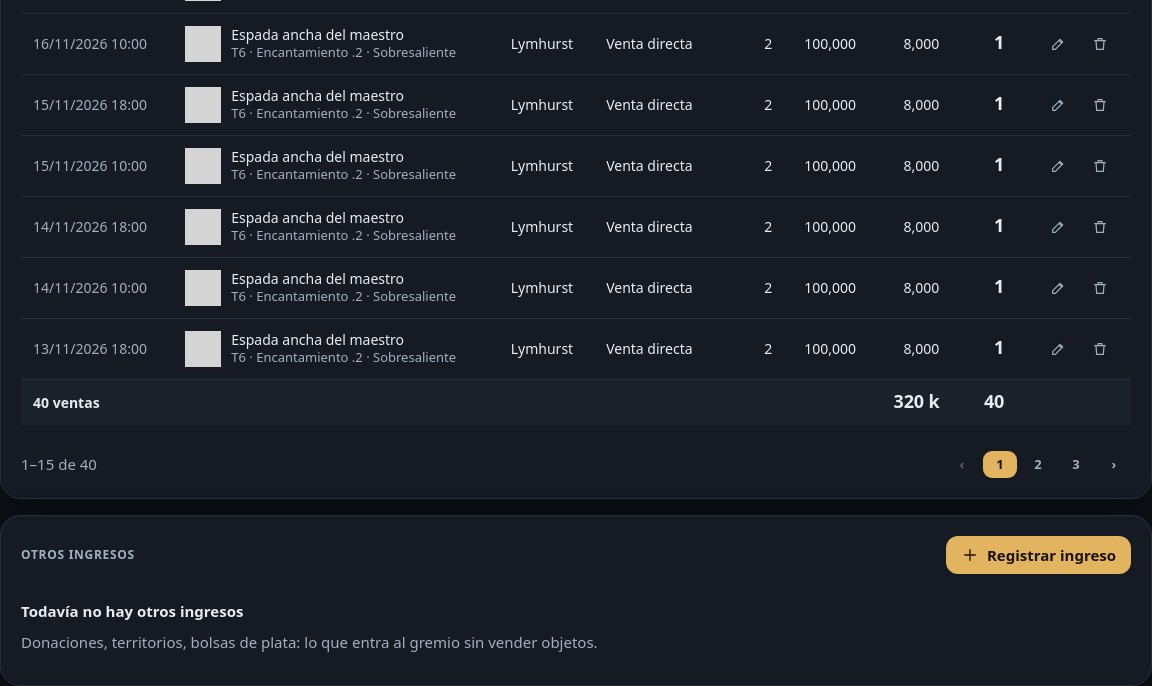
Test: paginación › muestra 15 por página y los totales cubren todas
(page scrolled)
Expected: the text "40 ventas" is shown, [21,379,868,424]
Expected: the text titled "40" is shown, [984,388,1004,412]
Click the button named "Página 3" at (1076, 464), box [1059,450,1093,478]
(page scrolled)
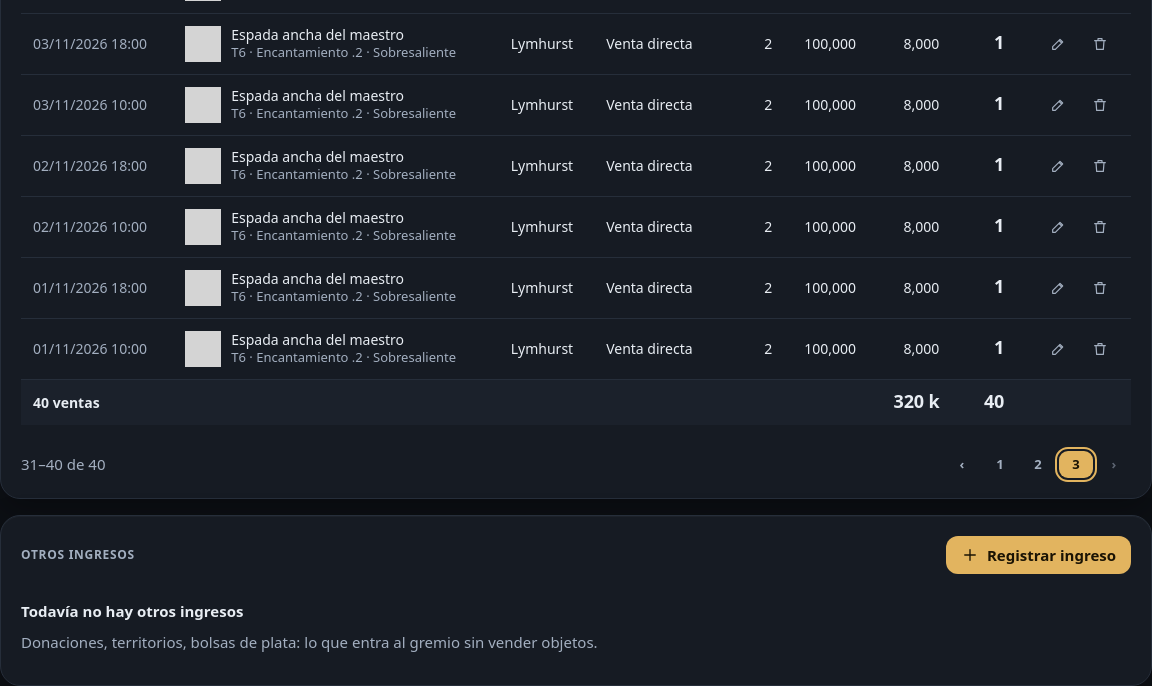
Now the text "31–40 de 40" is shown, box [21,453,106,476]
